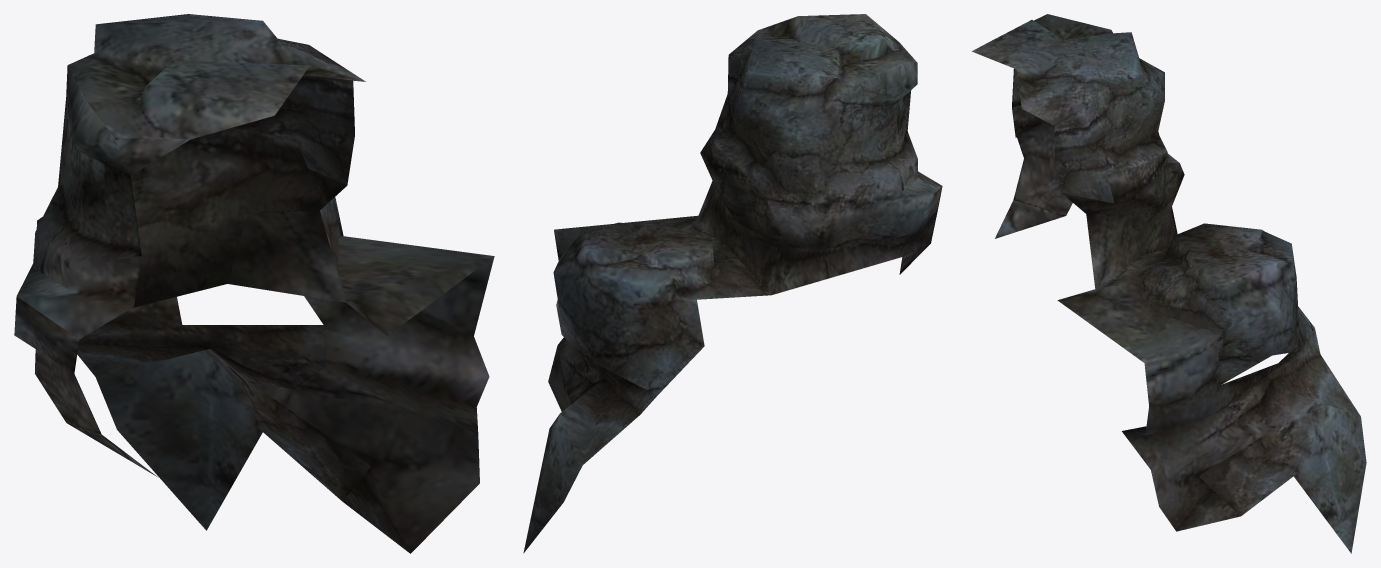
File: S_Rock_Yellow034_H05.FBX
3 views of the same model, side by side, from view 1: azimuth 30°, elevation 25°; view 2: azimuth 150°, elevation 25°; view 3: azimuth 270°, elevation 25° (orthographic). The views are drawn at different scales.
Visible parts, largest first — view 1: S_Rock_Yellow034_H05; view 2: S_Rock_Yellow034_H05; view 3: S_Rock_Yellow034_H05.
Boxes of the visible parts, x1=… form: S_Rock_Yellow034_H05: x1=14, y1=14, x2=494, y2=553; S_Rock_Yellow034_H05: x1=523, y1=14, x2=942, y2=553; S_Rock_Yellow034_H05: x1=972, y1=14, x2=1366, y2=553.
Size of the model in its own units: 1072 by 1093 by 1338.
1 material, 1 textured.
